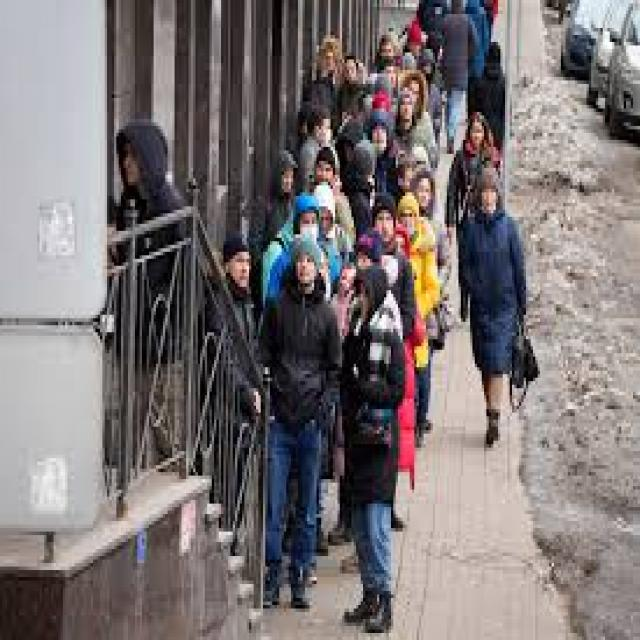Jacket: (447, 202, 540, 378), (101, 183, 192, 362), (339, 308, 410, 522), (256, 274, 345, 441), (467, 63, 514, 164), (437, 8, 482, 98)
